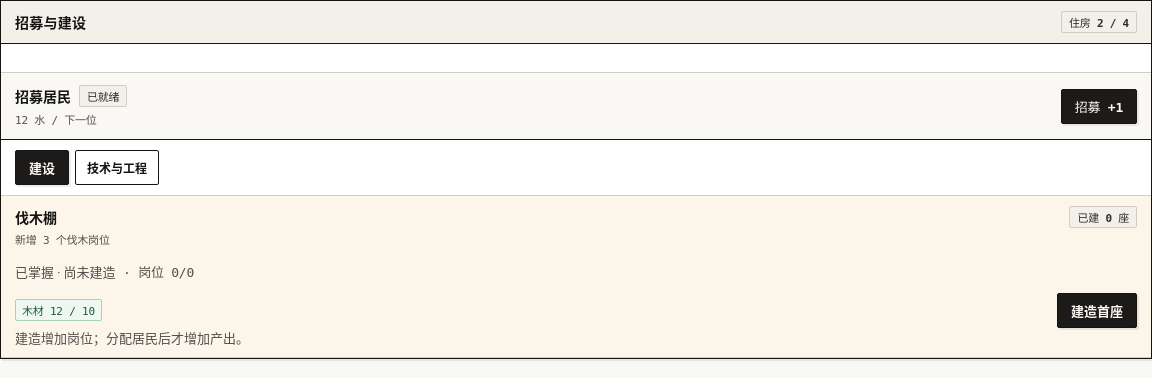
Test: settlement construction interface › shows researched-but-unbuilt state and charges an explicit construction command
Step 1. Click the button "建造首座" → (1097, 310), box [1057,292,1137,328]
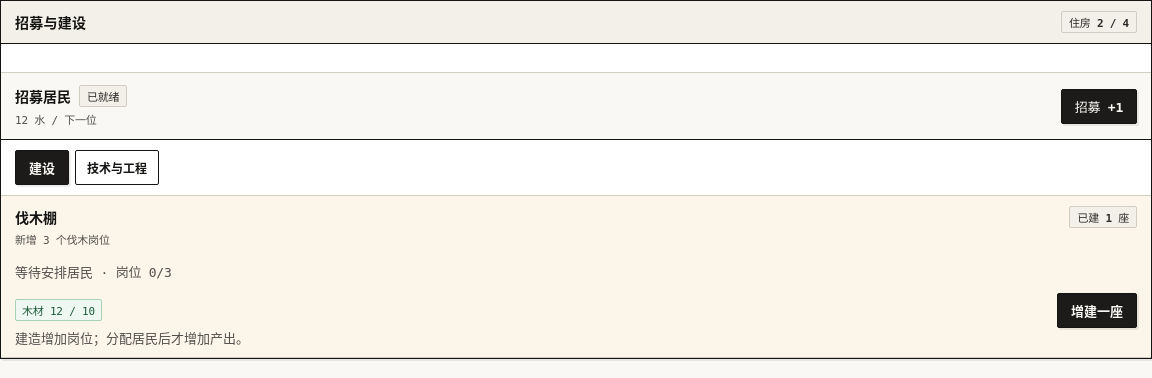
Expected: the text "等待安排居民" is shown, [15,264,93,280]
